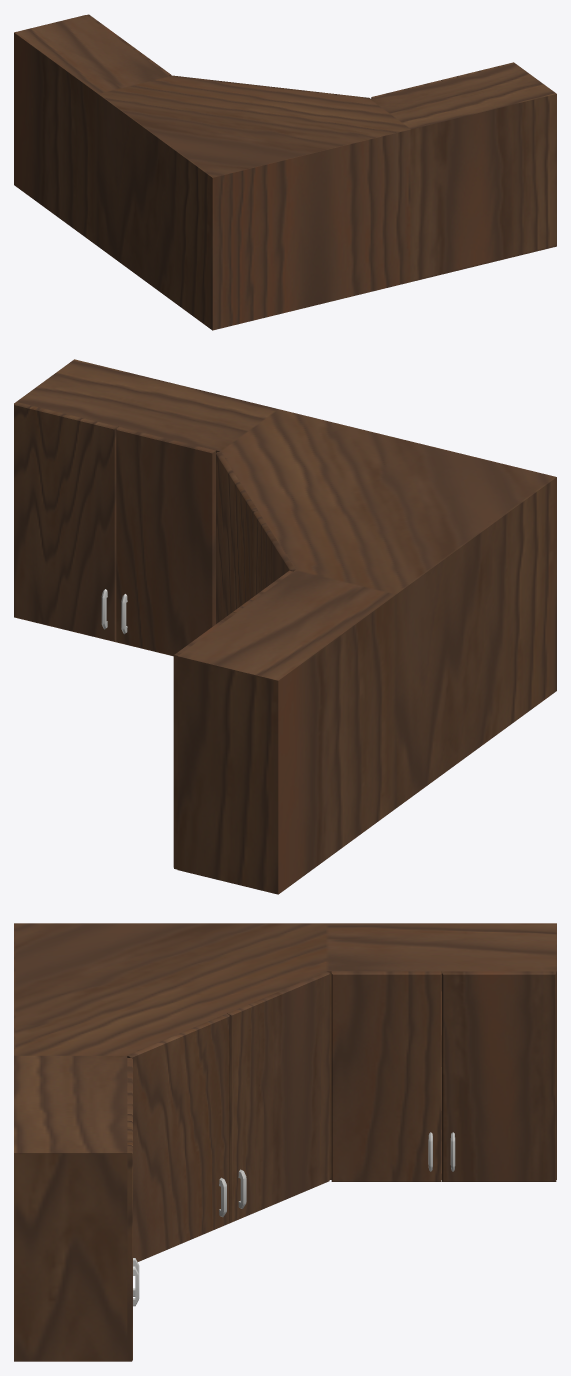
Rendered from CupboardRounded.obj.
3 renders of one model, top to bottom at view 1: azimuth 30°, elevation 25°; view 2: azimuth 150°, elevation 25°; view 3: azimuth 270°, elevation 25°, orthographic. The views are drawn at different scales.
Parts seen in each view (by area): view 1: KitchenCupboardRounded; view 2: KitchenCupboardRounded; view 3: KitchenCupboardRounded.
Boxes of the visible parts, x1,y1,x2,y2 form: KitchenCupboardRounded: [14, 14, 556, 330]; KitchenCupboardRounded: [14, 359, 556, 894]; KitchenCupboardRounded: [14, 923, 556, 1361].
Size of the model in its own units: 1.89 by 0.8 by 1.89.
